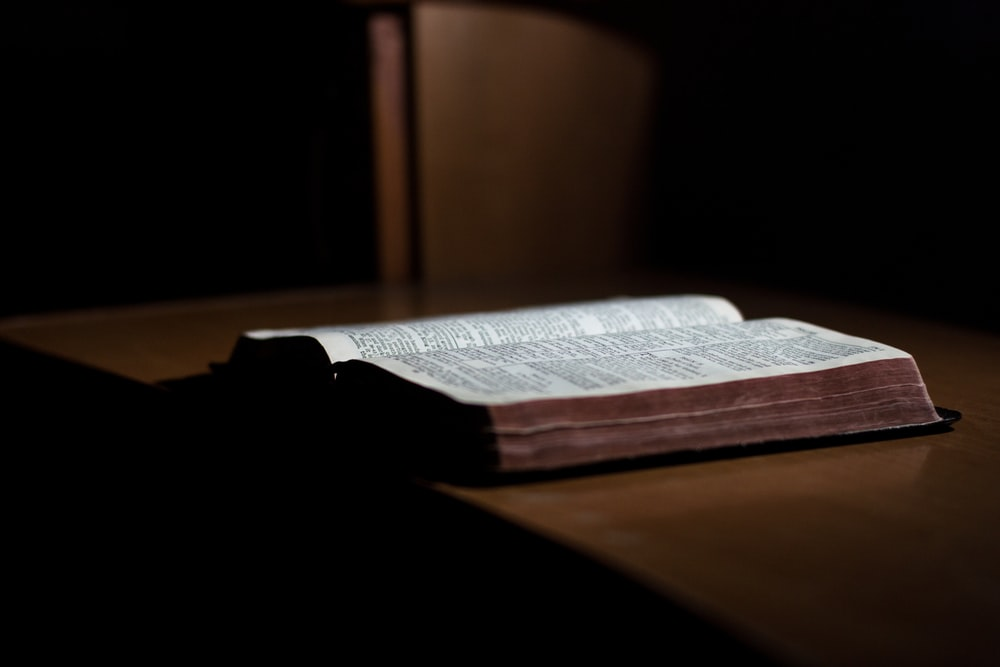Open Book: (229, 296, 956, 473)
